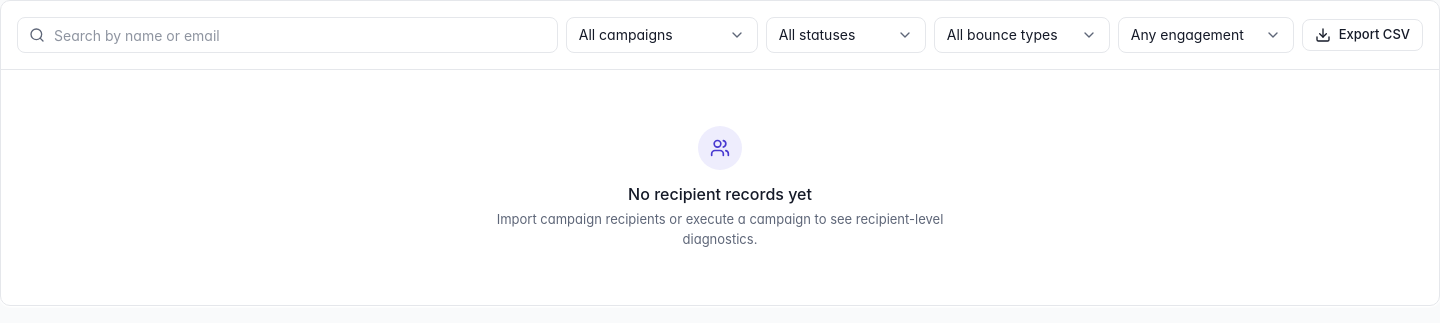
Test: RecipientTable › shows empty states for no data and for no filter matches
This screenshot has width=1440, height=323.
Expected: the text "No recipient records yet" is shown, [628,184,812,204]
Type "zzz" into the field named "Search recipients". click: (287, 35)
box: [17,17,558,53]
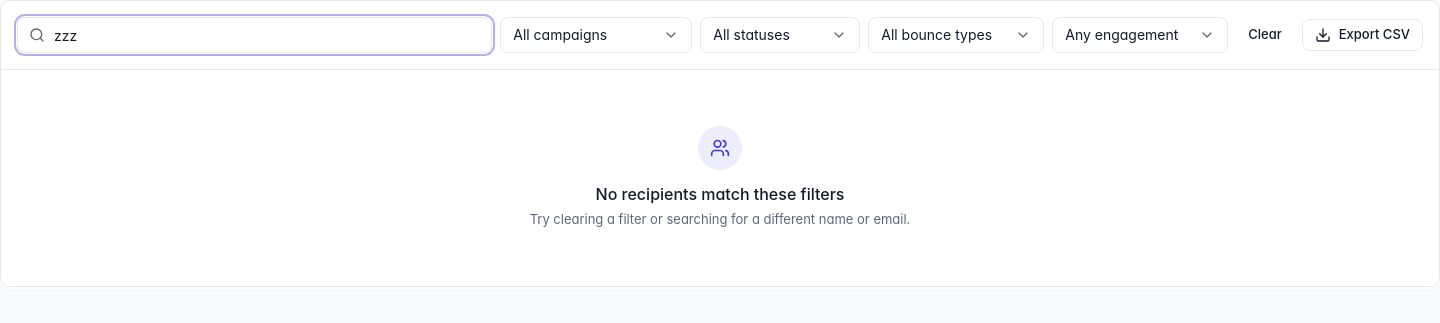
Expected: the text "No recipients match these filters" is shown, [596,184,844,204]
Click the button "Clear". click: (1265, 35)
box: [1236,19,1294,51]
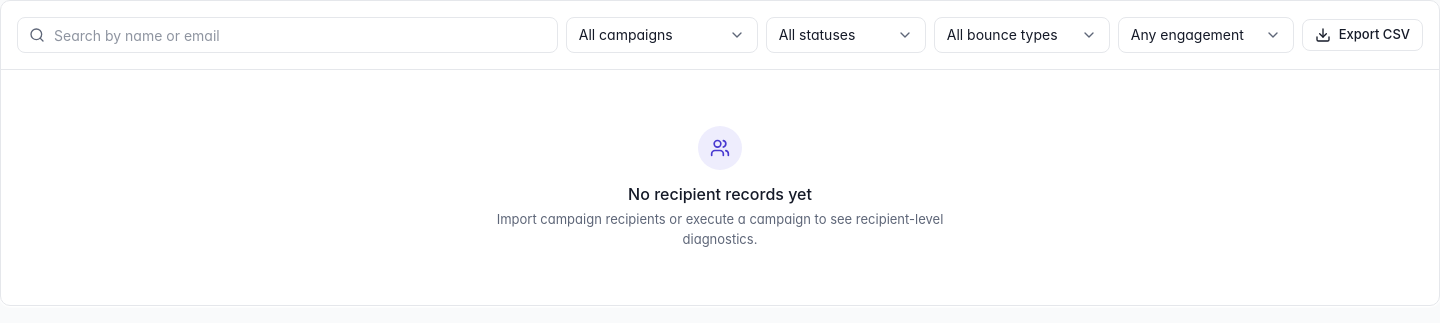
Expected: the text "No recipient records yet" is shown, [628,184,812,204]
